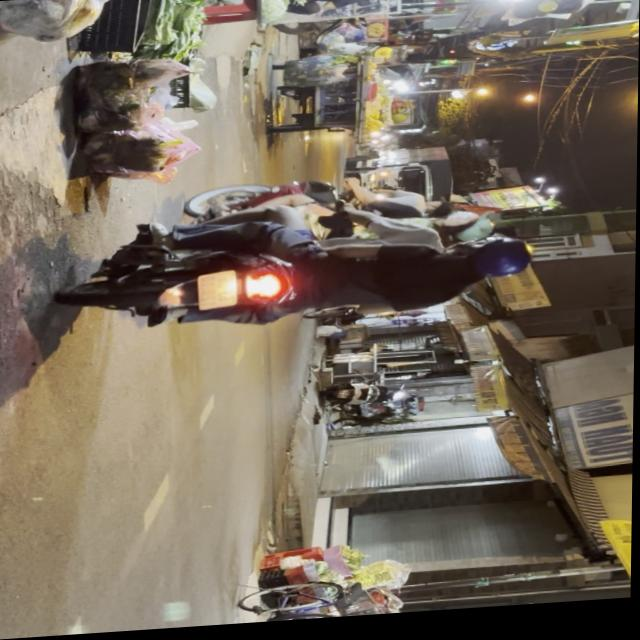helmet: (455, 244, 535, 290), (438, 217, 498, 253)
licenseplate: (60, 175, 540, 346)
nohelmet: (201, 274, 240, 312)
